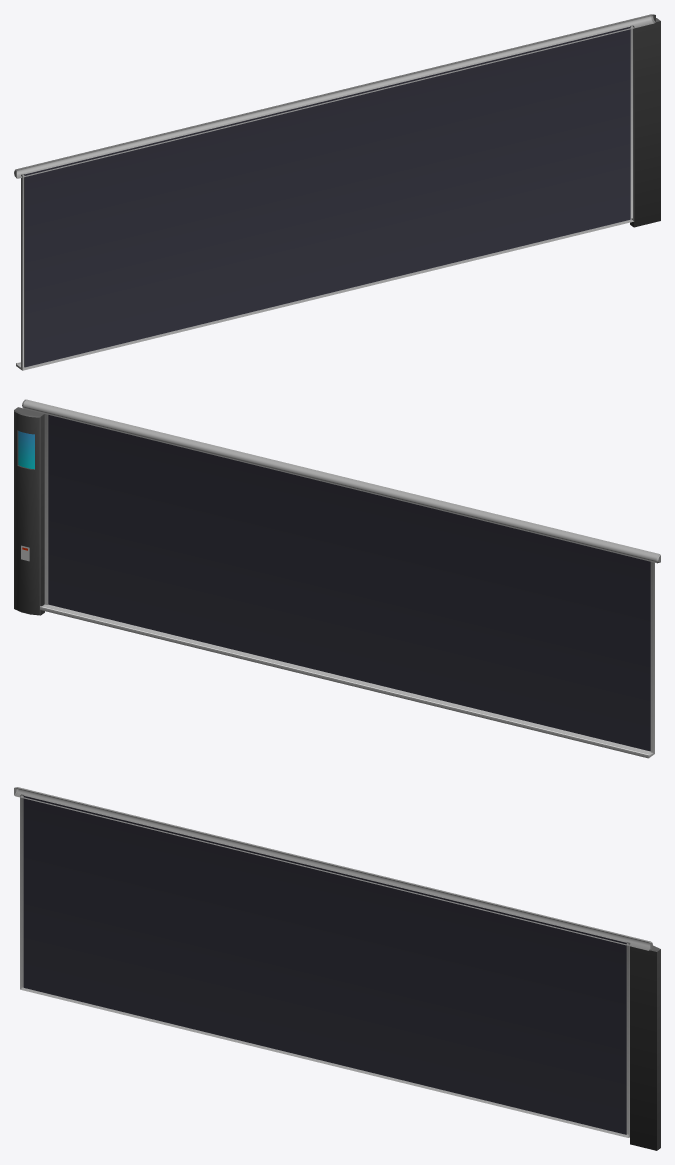
Rendered from CR_BlackBoard_001.FBX.
3 views of the same model, one above another, from view 1: azimuth 30°, elevation 25°; view 2: azimuth 150°, elevation 25°; view 3: azimuth 330°, elevation 25° (orthographic).
Parts seen in each view (by area): view 1: CR_BlackBoard_001; view 2: CR_BlackBoard_001; view 3: CR_BlackBoard_001.
Part boxes in pixels (box(x1,y1,x2,y2)): CR_BlackBoard_001: box(14, 14, 660, 370); CR_BlackBoard_001: box(14, 399, 660, 758); CR_BlackBoard_001: box(14, 787, 660, 1150).
Bounding box in the file's own units: 489 × 151 × 9.4.
Materials: 1 (1 with a texture image).
